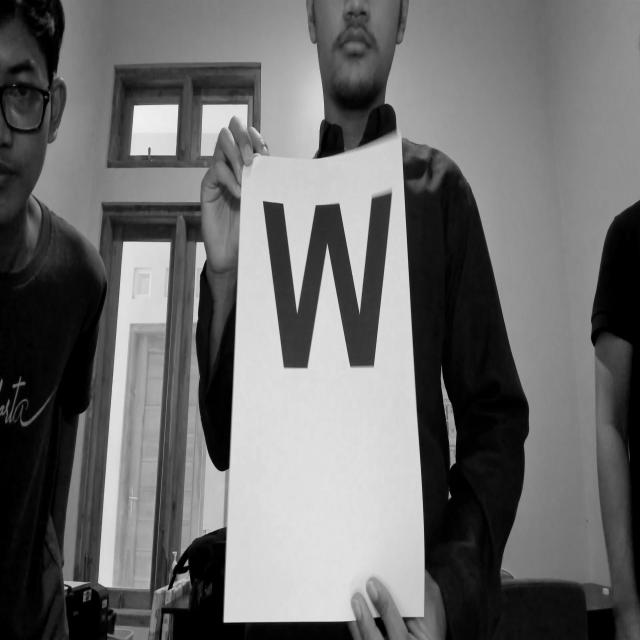w: (259, 183, 397, 385)
